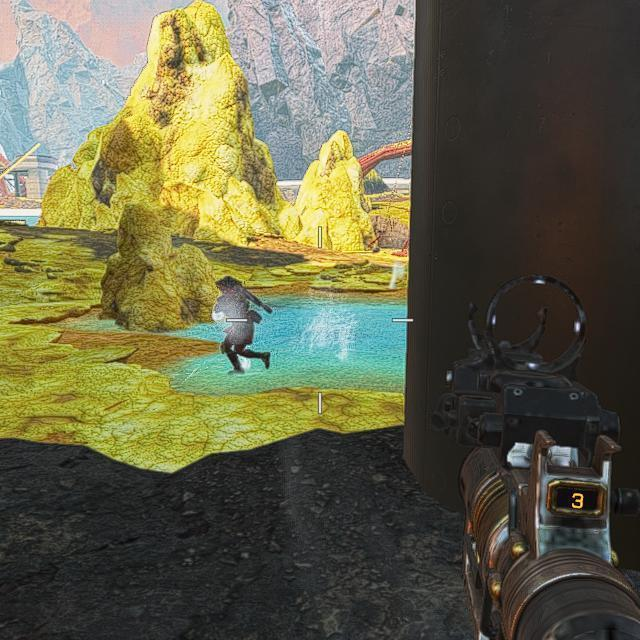avatar: (210, 275, 263, 379)
